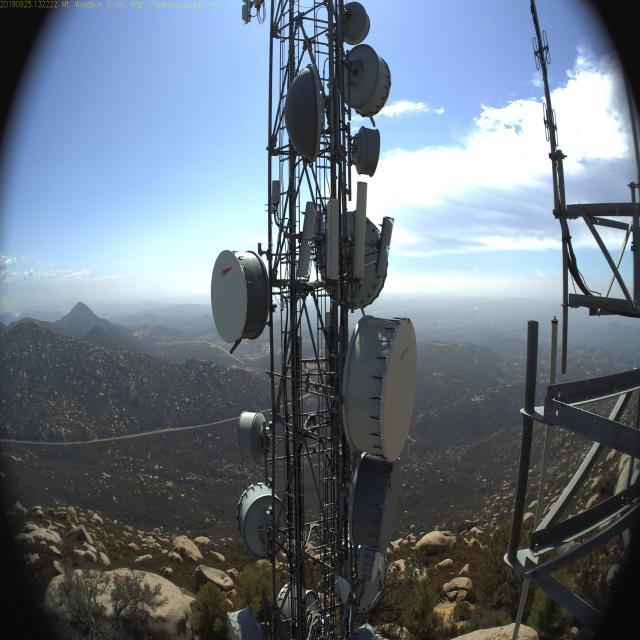smoke: (0, 291, 22, 322)
